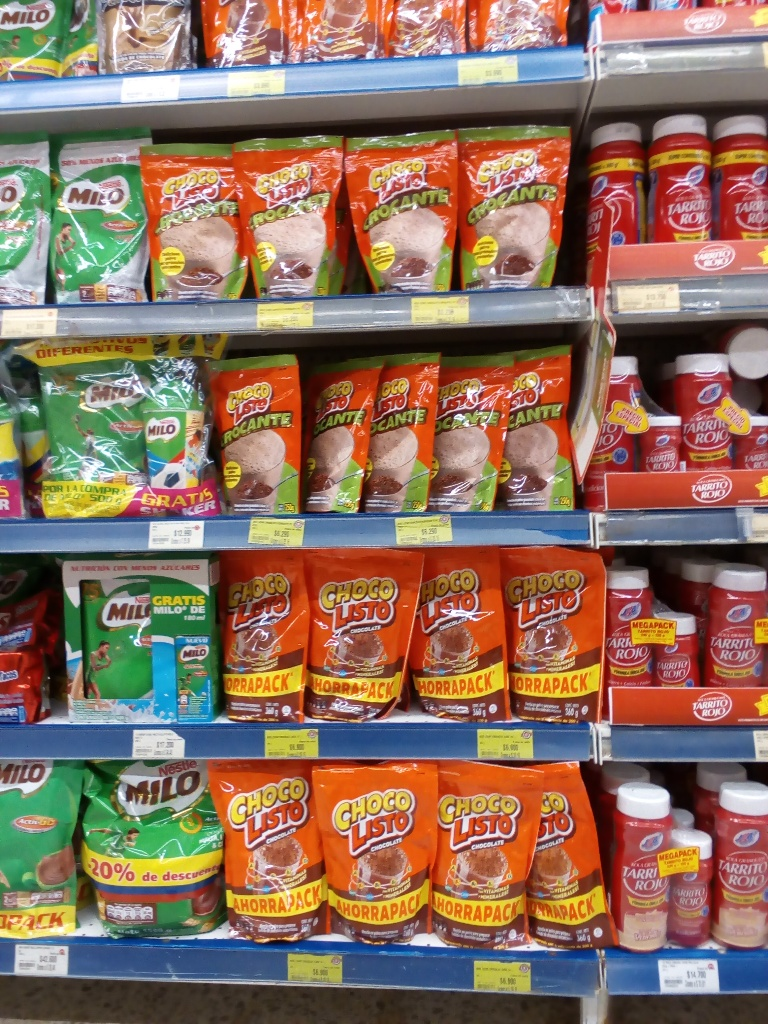COL0170102DYP25000: (201, 357, 303, 512)
COL0170103DYP36000: (223, 553, 308, 726)
COL0170203DYP50000: (38, 341, 151, 489)
COL0170205DYP50000: (77, 578, 156, 705)
